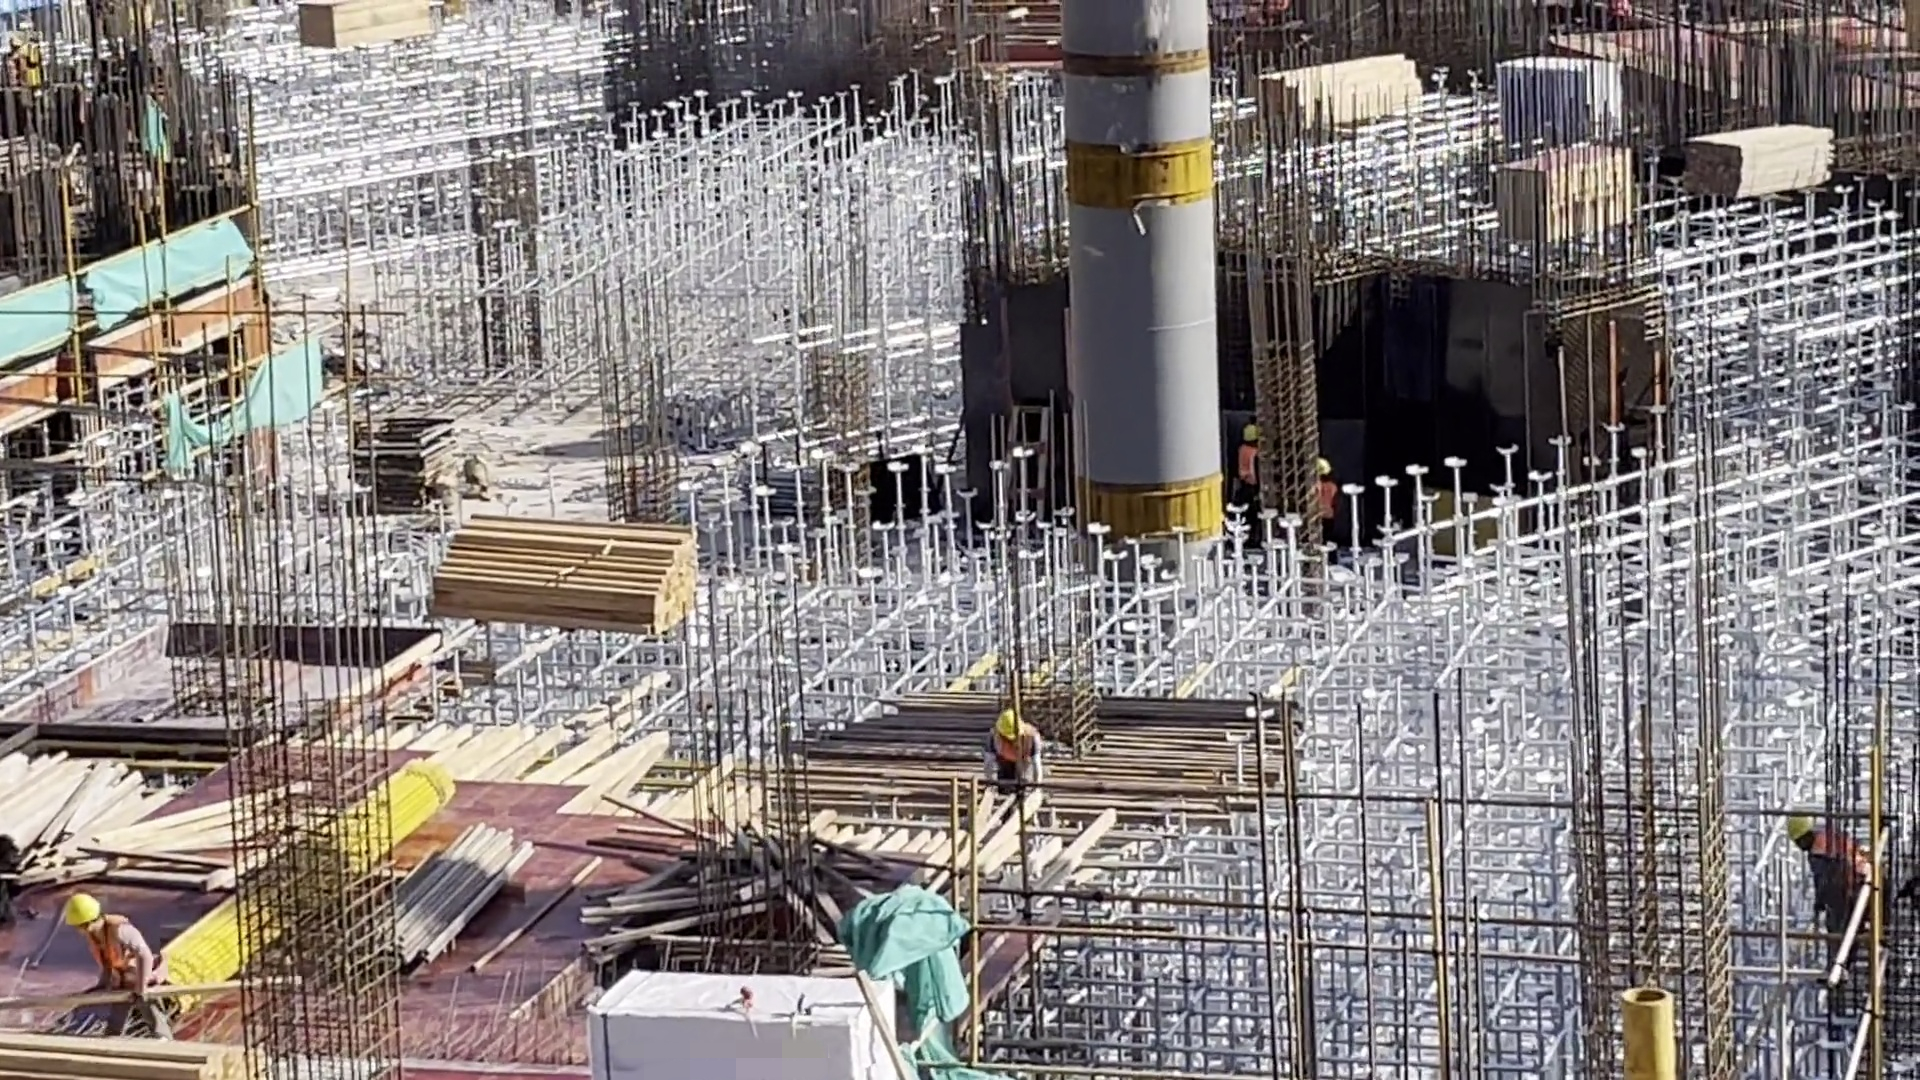board: (347, 412, 487, 513)
helmet: (65, 892, 104, 931), (995, 709, 1027, 744), (1242, 424, 1265, 446), (1316, 457, 1334, 482)
person: (66, 886, 197, 1068), (987, 699, 1061, 829), (1238, 420, 1284, 520), (1315, 452, 1352, 573)
vest: (81, 908, 153, 991), (993, 726, 1046, 778), (1313, 477, 1336, 525), (1239, 441, 1261, 483)
wood: (423, 523, 720, 628), (1, 751, 169, 886), (1238, 49, 1431, 148), (1687, 116, 1844, 209), (2, 1028, 268, 1080)
